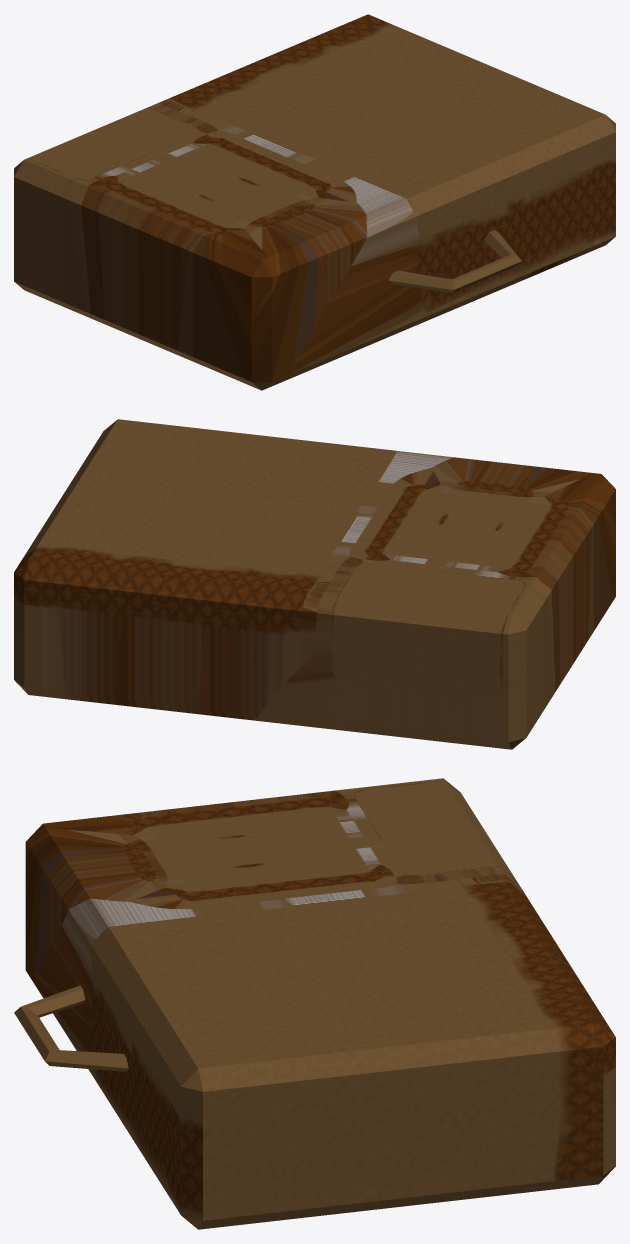
File: SM_Hub_Bag_01.fbx
3 views of the same model, one above another, from view 1: azimuth 30°, elevation 25°; view 2: azimuth 150°, elevation 25°; view 3: azimuth 270°, elevation 25° (orthographic). The views are drawn at different scales.
Visible parts, largest first — view 1: SM_Baggage_Bag_01; view 2: SM_Baggage_Bag_01; view 3: SM_Baggage_Bag_01.
Boxes of the visible parts, box(x1,y1,x2,y2) form: SM_Baggage_Bag_01: box(14, 14, 615, 390); SM_Baggage_Bag_01: box(14, 419, 615, 749); SM_Baggage_Bag_01: box(14, 778, 615, 1229).
Size of the model in its own units: 7.16 by 1.77 by 5.98.
